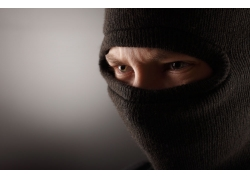face: (101, 30, 228, 145)
